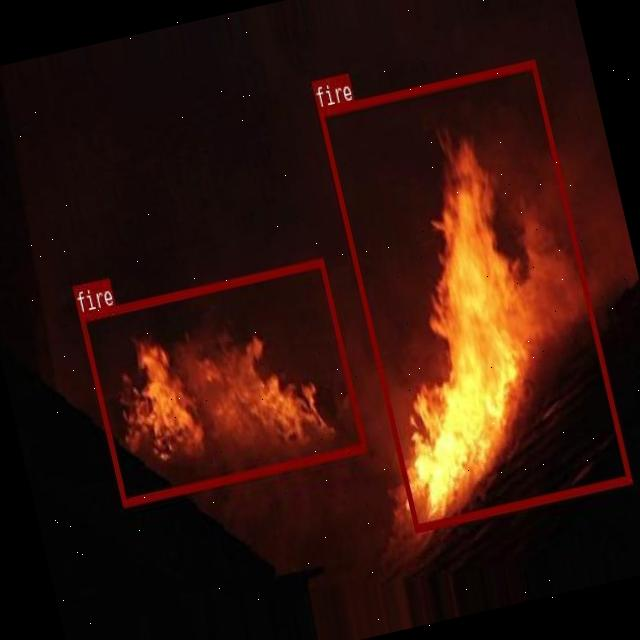fire: (318, 58, 632, 531), (78, 257, 366, 505)
